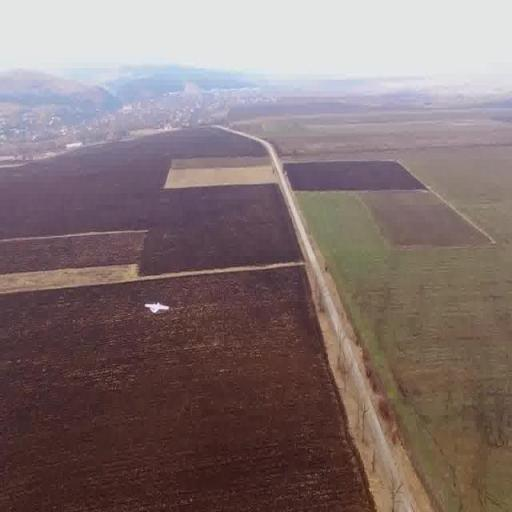uav: (138, 277, 178, 332)
